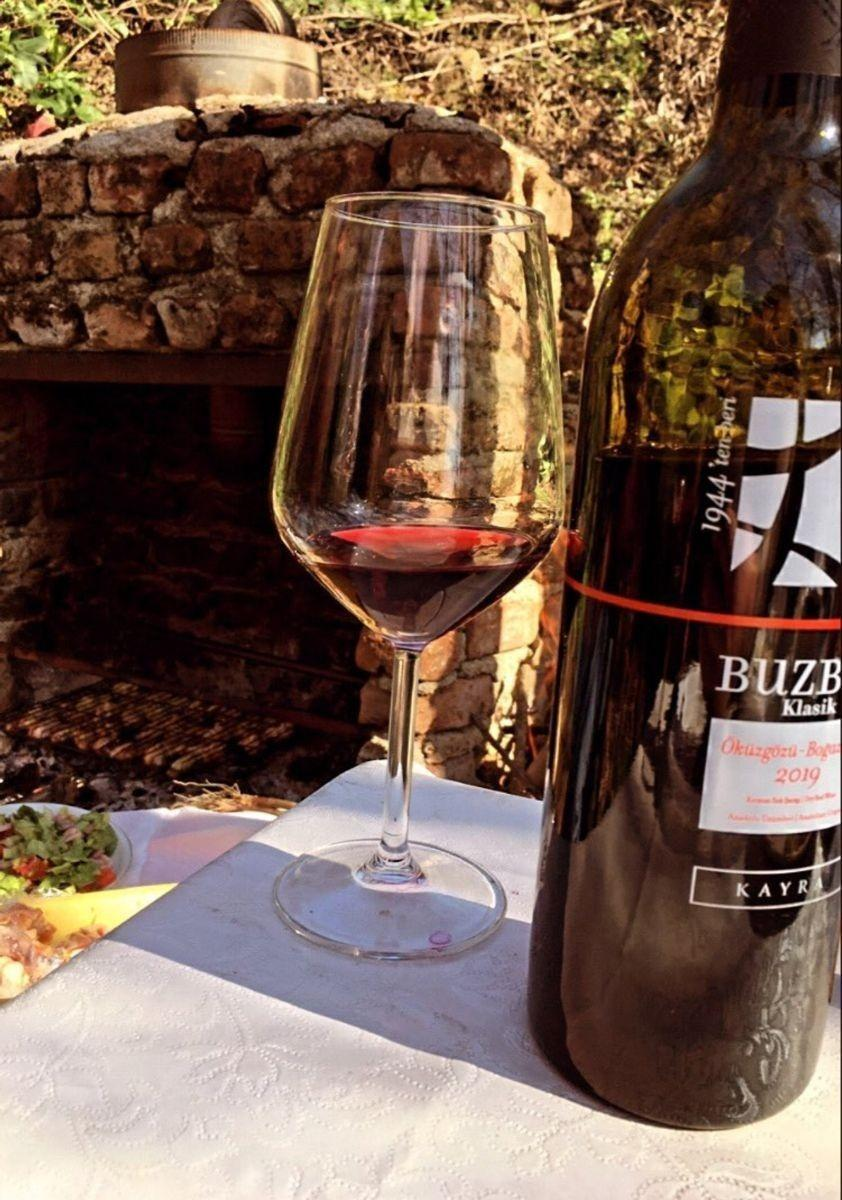bottle-glass: (514, 135, 840, 1163)
glass-wine: (259, 190, 571, 973)
